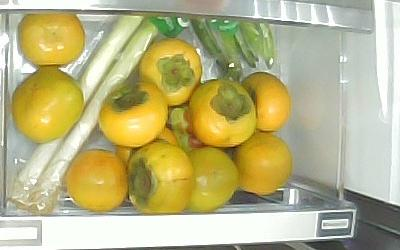persimmon: (12, 67, 84, 143), (126, 142, 196, 212), (98, 81, 170, 147), (189, 79, 256, 147), (139, 38, 202, 104), (65, 149, 128, 211), (231, 131, 292, 194), (18, 11, 85, 67), (188, 147, 238, 210), (242, 72, 291, 132), (115, 124, 181, 167)
